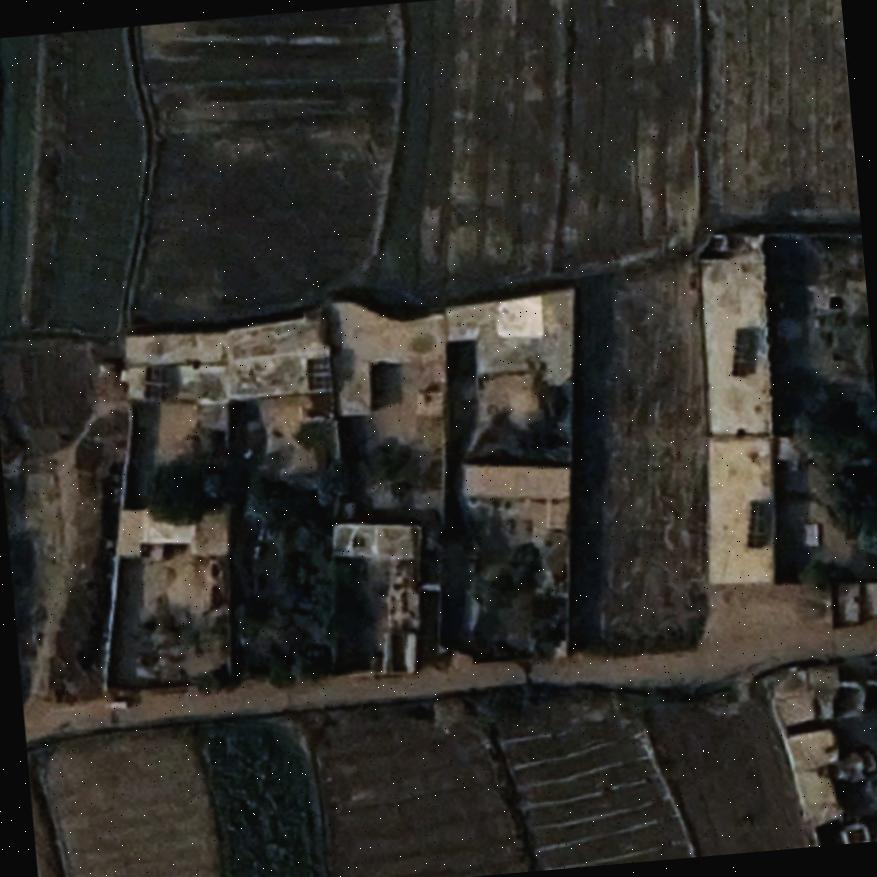Solarpanel: (729, 324, 760, 377), (745, 499, 774, 550), (303, 354, 331, 392), (143, 362, 170, 398)
